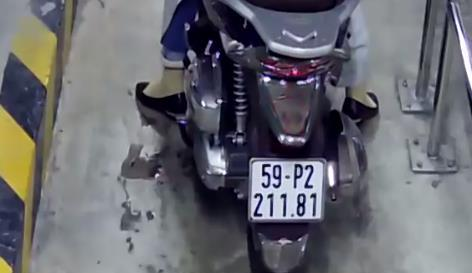lisence: (248, 157, 324, 222)
